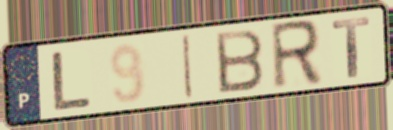9: (107, 41, 148, 106)
B: (213, 26, 267, 95)
I: (181, 31, 195, 102)
L: (51, 49, 95, 113)
R: (268, 17, 325, 93)
T: (329, 14, 372, 80)
